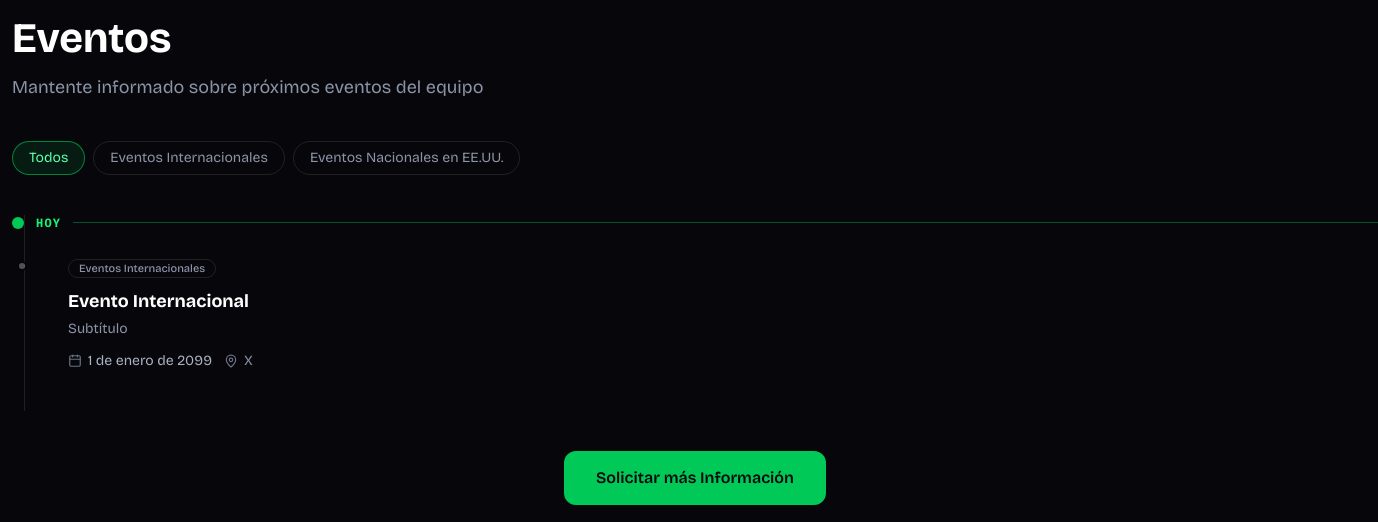
EventosTimeline › no revienta al filtrar desde una lista con eventos hacia una categoria sin eventos
Click the button "Eventos Nacionales en EE.UU.": [407, 158] box [293,140,520,174]
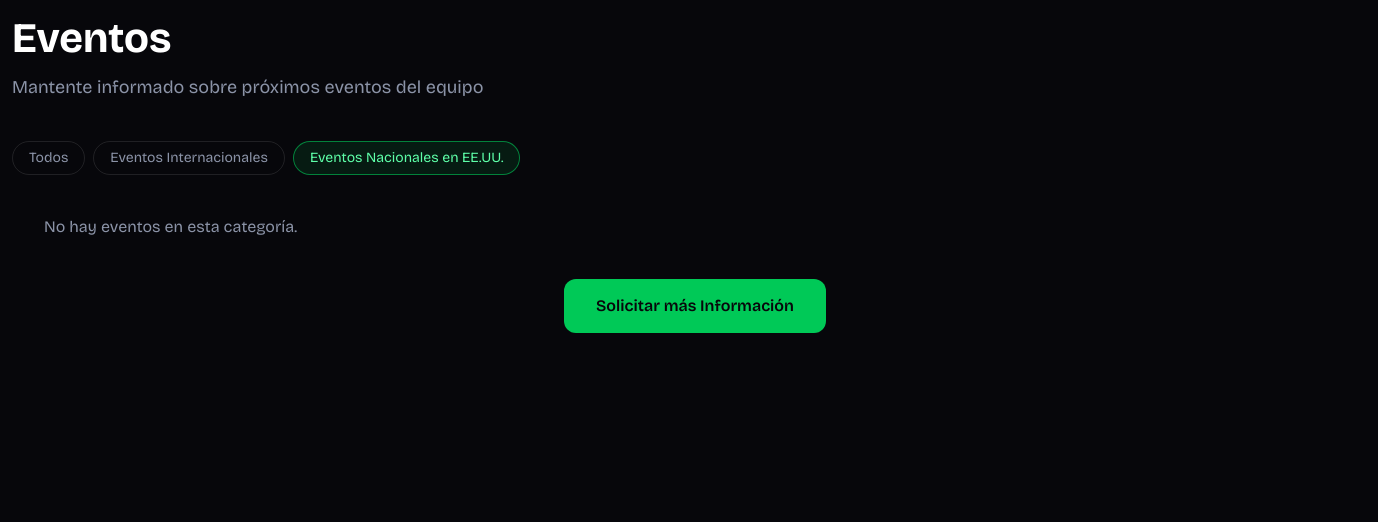
Expected: the text "No hay eventos en esta categoría." is shown, [44,216,297,236]
Expected: the heading "Evento Internacional" is gone
